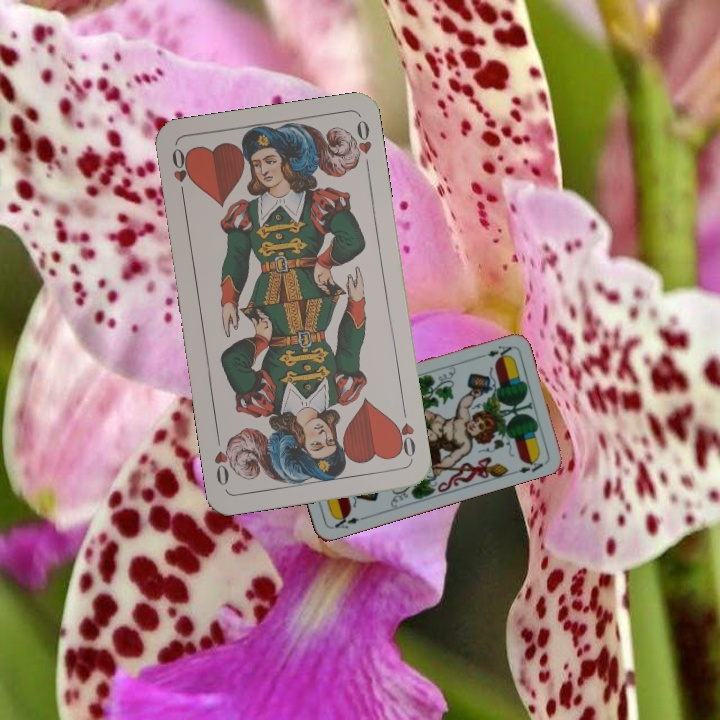EA: (329, 510, 369, 531), (474, 341, 514, 361)
HO: (390, 403, 418, 462), (167, 144, 193, 203)
